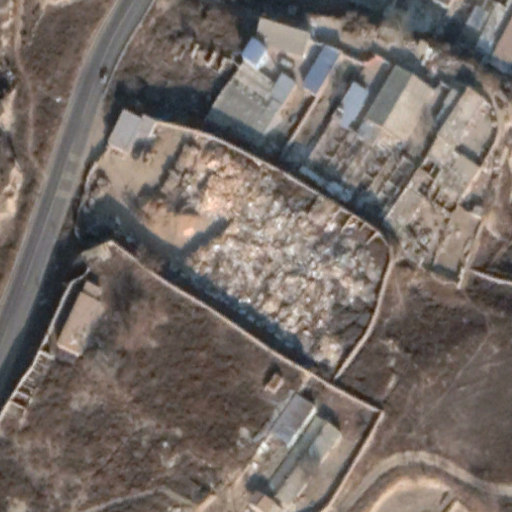msw: (175, 145, 384, 374)
